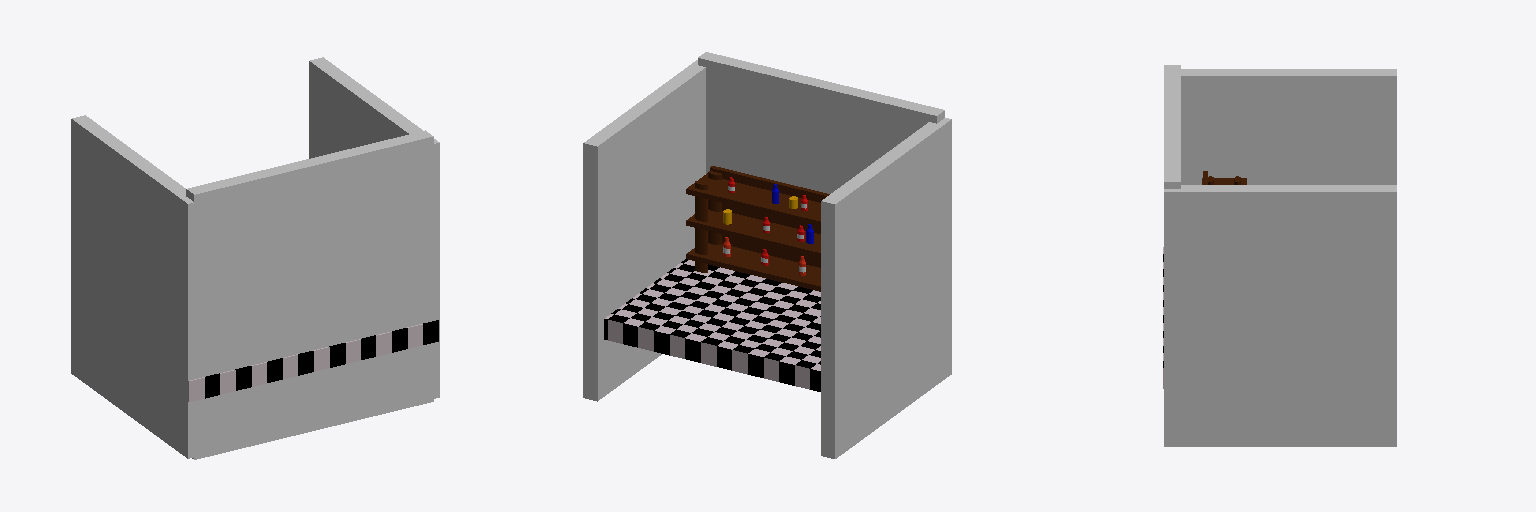
File: supplycloset.obj
3 views of the same model, side by side, from view 1: azimuth 30°, elevation 25°; view 2: azimuth 150°, elevation 25°; view 3: azimuth 270°, elevation 25° (orthographic).
Parts seen in each view (by area): view 1: wall_left.002, wall_front.001, wall_back, floor.004; view 2: wall_front.001, wall_back, wall_left.002, floor.004, supply_shelf, supplies; view 3: wall_back, wall_front.001, wall_left.002.
Part boxes in pixels (x1,y1,x2,y2): wall_left.002: (186,130,433,459); wall_front.001: (71,115,201,458); wall_back: (309,57,439,400); floor.004: (188,320,438,401); wall_front.001: (821,118,951,458); wall_back: (583,60,705,401); wall_left.002: (698,52,944,193); floor.004: (604,259,820,391); supply_shelf: (686,166,829,291); supplies: (723,177,813,275); wall_back: (1164,185,1396,446); wall_front.001: (1181,69,1396,184); wall_left.002: (1164,65,1180,188).
Size of the model in its own units: 6.66 by 6.7 by 5.37.